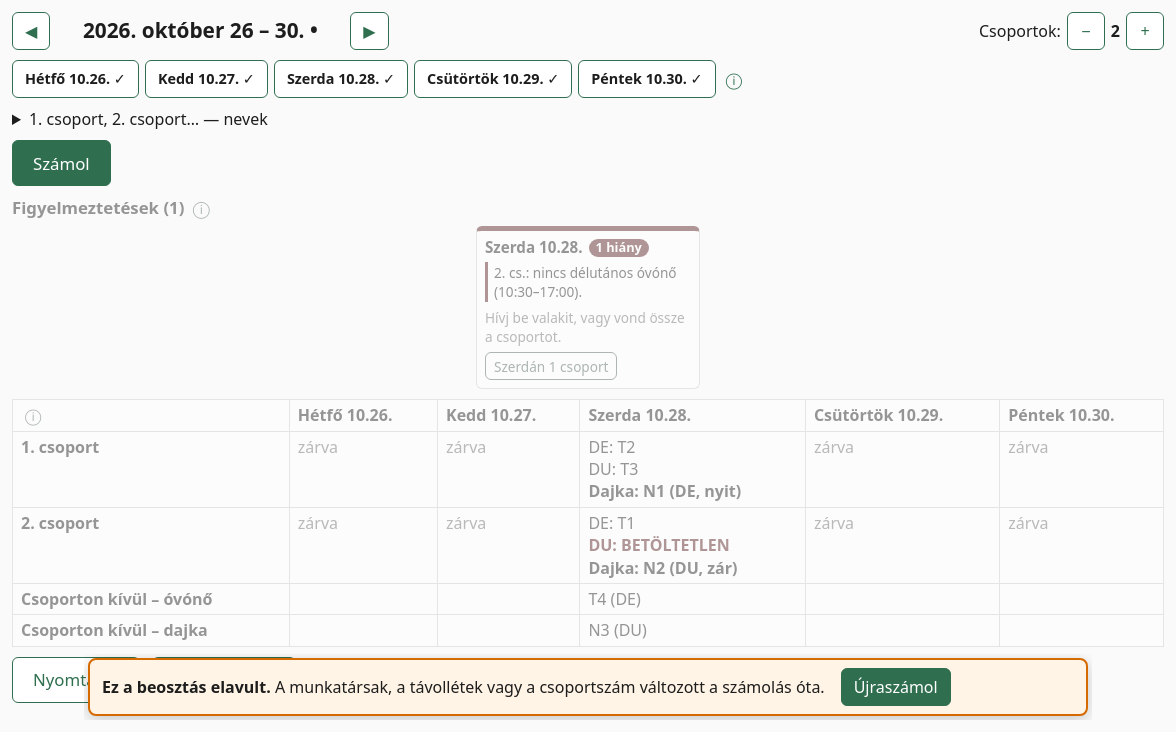
it: RosterScreen undo › keeps the change and clears the marks on Rendben
Click the button "Újraszámol" at (896, 687), box [841,668,951,706]
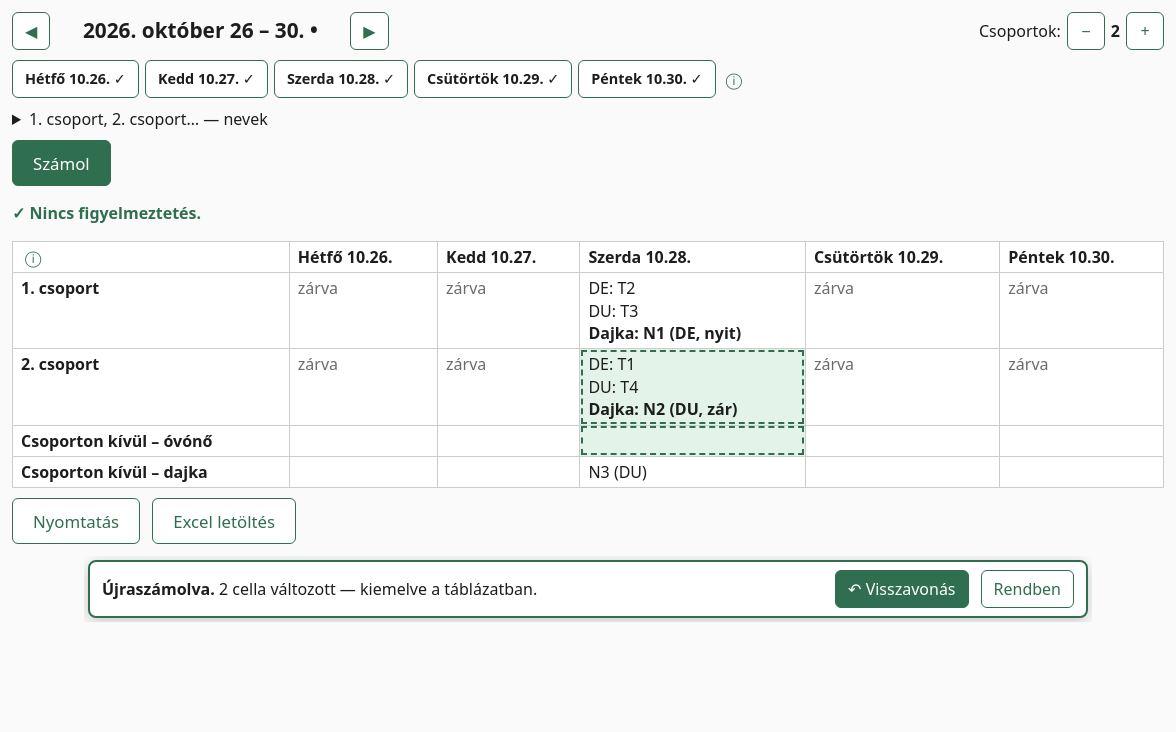
Expected: the text "Újraszámolva." is shown, [102,578,215,600]
Click the button "Rendben" at (1027, 589), box [980,570,1074,608]
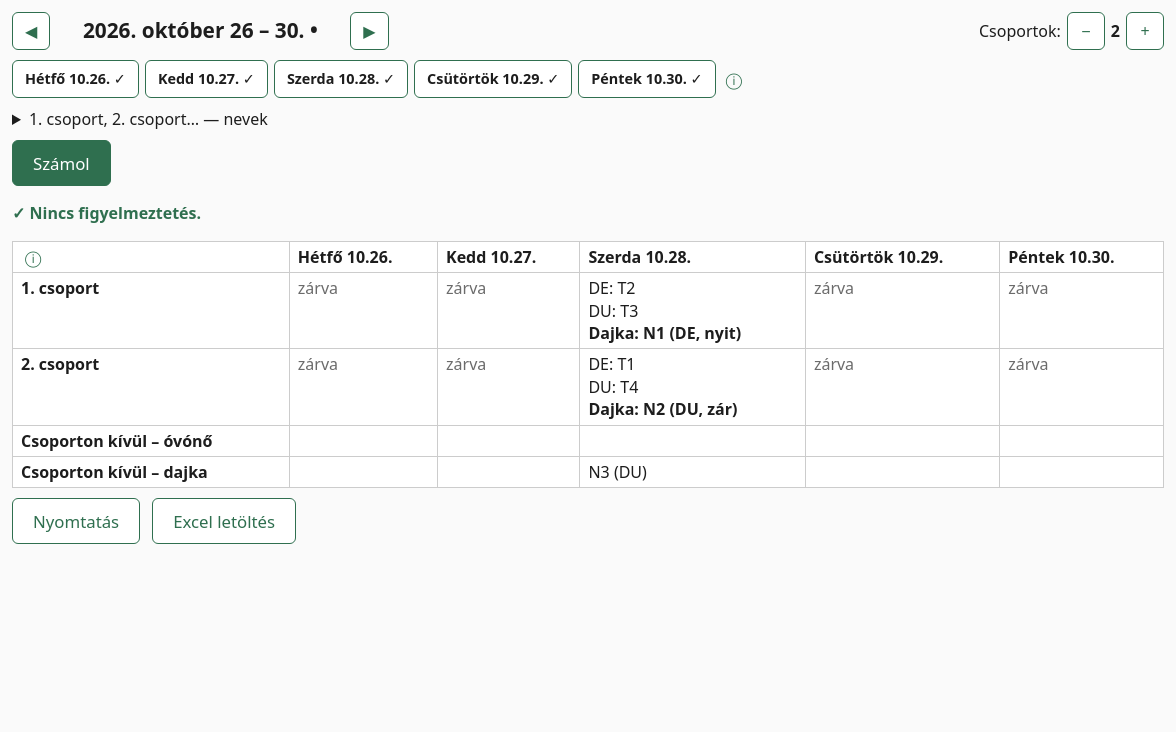
Expected: the button "Szerdán 1 csoport" is not shown
Expected: the button "↶ Visszavonás" is gone
